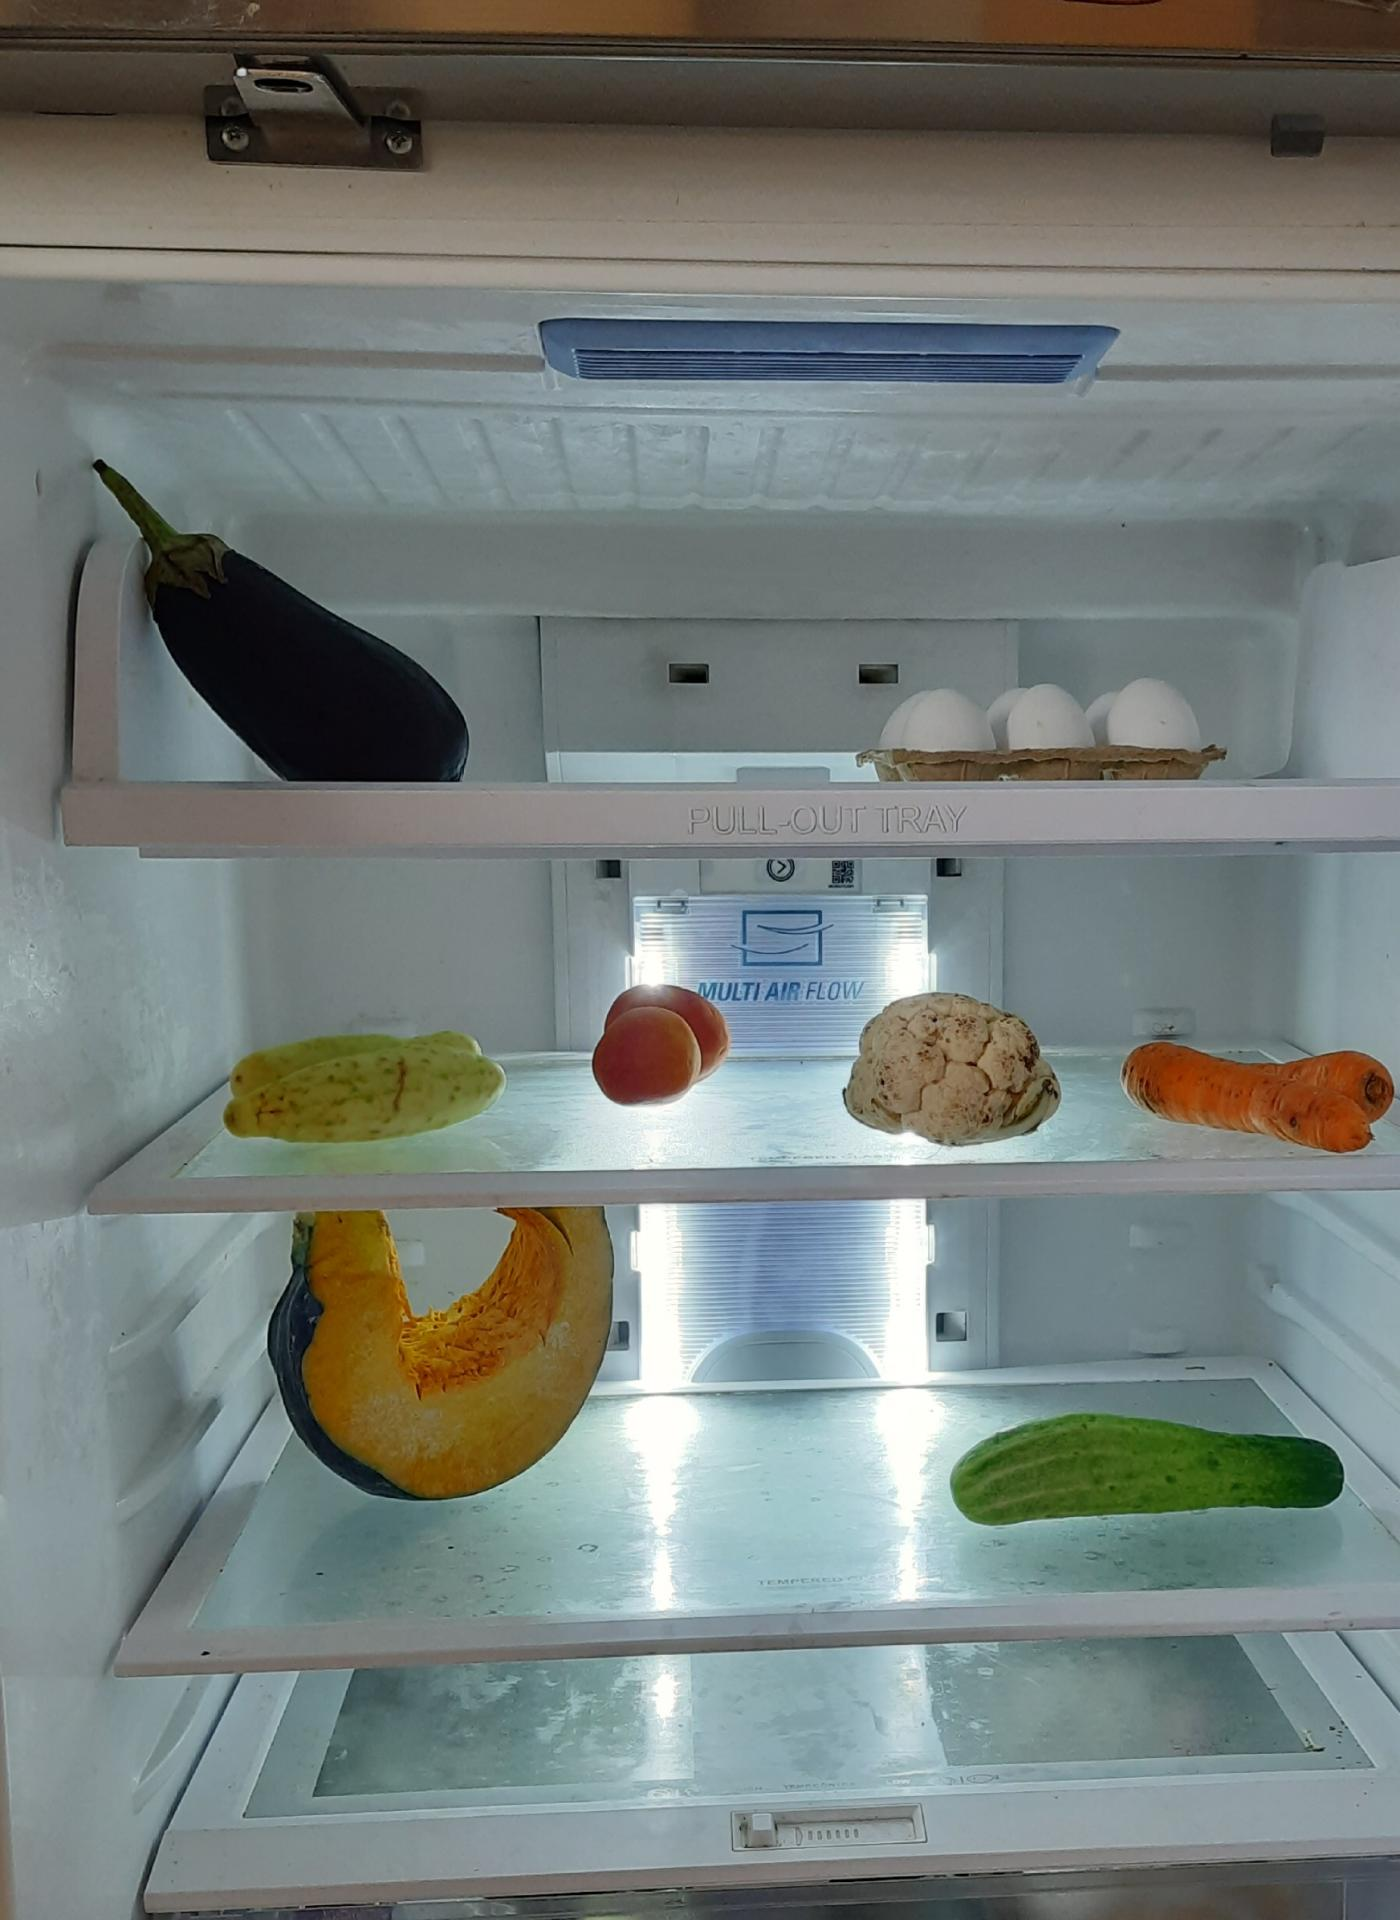brinjal: (88, 465, 494, 789)
carrots: (1126, 1038, 1393, 1152)
cauliflower: (838, 987, 1060, 1140)
cucumber: (950, 1412, 1357, 1535), (221, 1023, 511, 1146)
egg: (877, 677, 1211, 766)
pumpkin: (262, 1203, 617, 1500)
tomato: (589, 979, 732, 1108)
